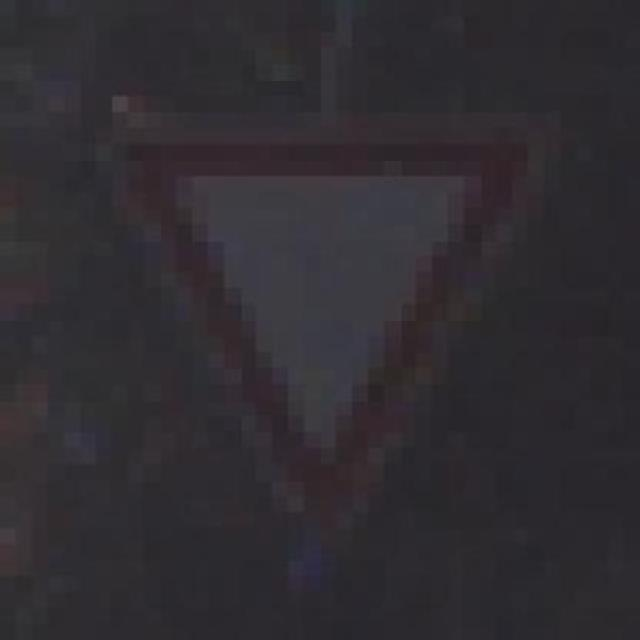Give Way: (95, 64, 560, 528)
